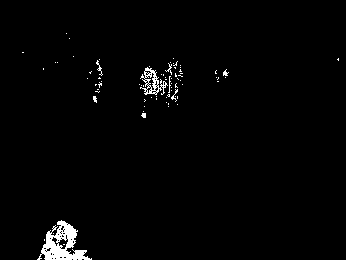person: (139, 67, 159, 119), (163, 61, 182, 107)
